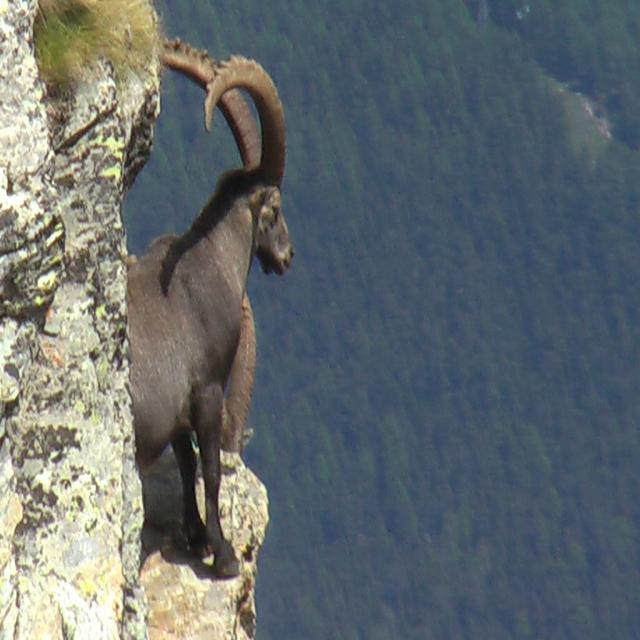Goat: (142, 153, 282, 592)
